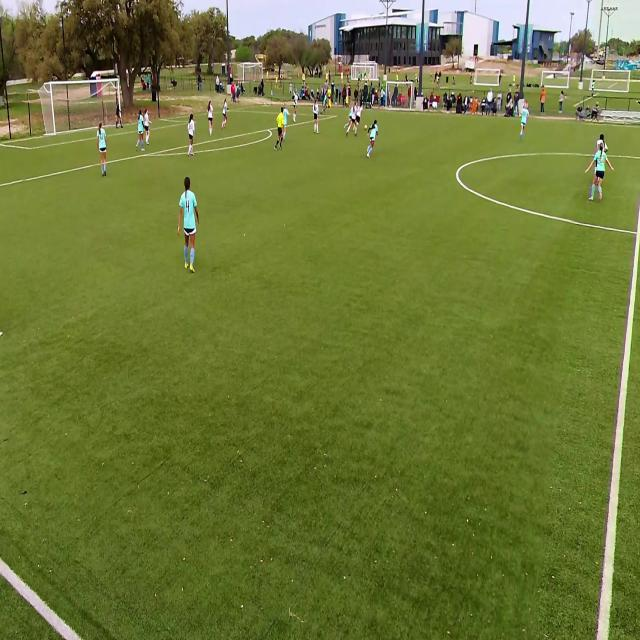ball: (364, 124, 367, 131)
team1: (182, 178, 202, 277), (590, 149, 608, 203), (98, 125, 109, 178), (369, 120, 380, 162), (135, 112, 145, 155), (520, 102, 530, 142), (283, 101, 291, 123), (322, 94, 328, 115), (348, 106, 352, 123)
team2: (188, 114, 198, 158), (144, 108, 152, 148), (312, 99, 320, 135), (222, 100, 230, 130), (207, 102, 214, 136), (293, 92, 300, 122), (356, 102, 362, 135), (595, 133, 609, 145), (352, 102, 356, 136)
